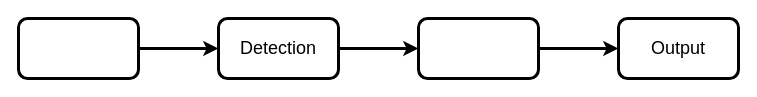
Image size: 757x97. Some labels were removed from this diagram. The shapes that lost their labels are listed below. From the top down, each one's centre as x and y in pixels, then its label:
At point 78,48: "Input".
At point 478,48: "Recognition".
